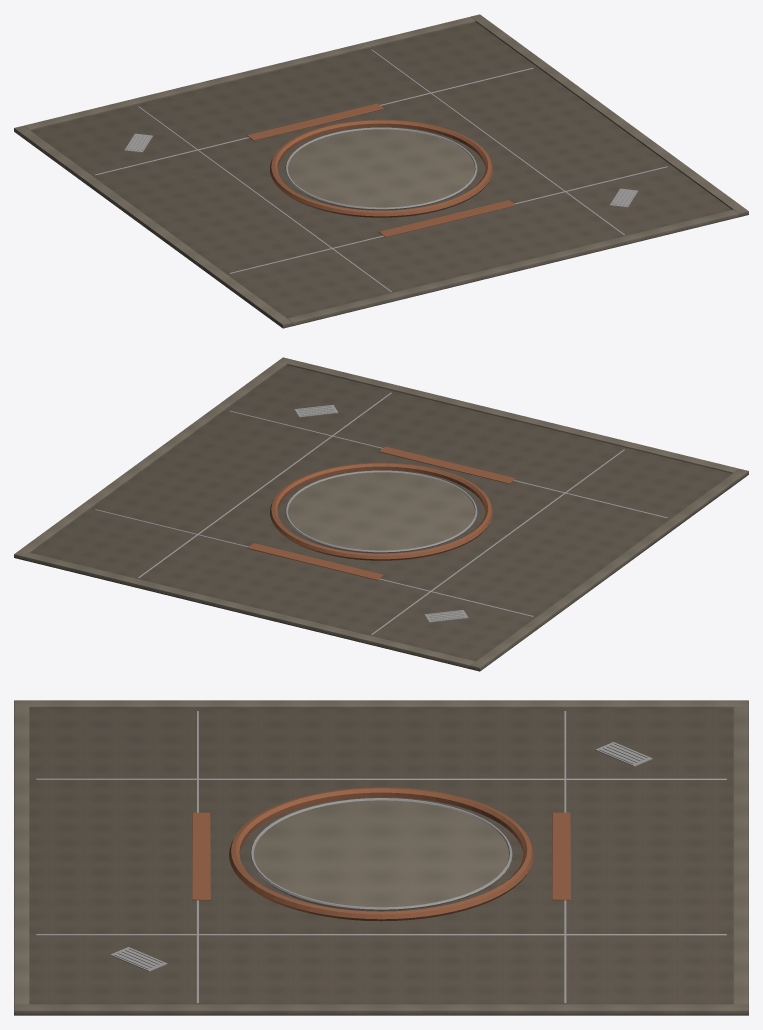
The model's file is hub_plaza.glb.
The picture shows the model from 3 angles, top to bottom: view 1: azimuth 30°, elevation 25°; view 2: azimuth 150°, elevation 25°; view 3: azimuth 270°, elevation 25°; orthographic projection. The views are drawn at different scales.
Parts seen in each view (by area): view 1: paving, landing_disc, kerb_z-1, hazard_ring, kerb_x-1, kerb_z1, kerb_x1, disc_collar, threshold_s1, threshold_s-1, joint_x1, joint_x-1 (+2 smaller); view 2: paving, landing_disc, kerb_z1, hazard_ring, kerb_x-1, kerb_z-1, kerb_x1, disc_collar, threshold_s1, threshold_s-1, joint_x1, joint_x-1 (+2 smaller); view 3: paving, landing_disc, kerb_x1, hazard_ring, kerb_x-1, kerb_z1, kerb_z-1, disc_collar, threshold_s1, threshold_s-1, joint_x-1, joint_x1 (+2 smaller).
Part boxes in pixels (box(x1,y1,x2,y2)): paving: box(14, 22, 748, 328); landing_disc: box(288, 129, 474, 210); kerb_z-1: box(287, 209, 739, 324); hazard_ring: box(270, 119, 492, 217); kerb_x-1: box(14, 125, 292, 327); kerb_z1: box(24, 17, 475, 130); kerb_x1: box(470, 14, 748, 216); disc_collar: box(285, 127, 477, 209); threshold_s1: box(247, 103, 383, 140); threshold_s-1: box(379, 200, 515, 237); joint_x1: box(371, 49, 624, 234); joint_x-1: box(138, 106, 391, 291); paving: box(14, 365, 748, 671); landing_disc: box(288, 472, 474, 553); kerb_z1: box(23, 552, 475, 668); hazard_ring: box(270, 462, 492, 560); kerb_x-1: box(470, 468, 748, 670); kerb_z-1: box(287, 360, 738, 473); kerb_x1: box(14, 357, 292, 559); disc_collar: box(285, 470, 477, 552); threshold_s1: box(247, 543, 383, 580); threshold_s-1: box(379, 446, 515, 483); joint_x1: box(138, 392, 391, 577); joint_x-1: box(371, 449, 624, 634); paving: box(14, 708, 748, 1015); landing_disc: box(253, 800, 509, 911); kerb_x1: box(14, 1004, 748, 1014); hazard_ring: box(229, 787, 533, 921); kerb_x-1: box(14, 700, 748, 708); kerb_z1: box(733, 706, 748, 1004); kerb_z-1: box(14, 706, 29, 1004); disc_collar: box(250, 798, 512, 910); threshold_s1: box(552, 812, 570, 900); threshold_s-1: box(192, 812, 210, 900); joint_x-1: box(36, 778, 726, 779); joint_x1: box(36, 934, 726, 935).
Size of the model in its own units: 20 by 0.3212 by 20.
5 materials, 2 textured.
